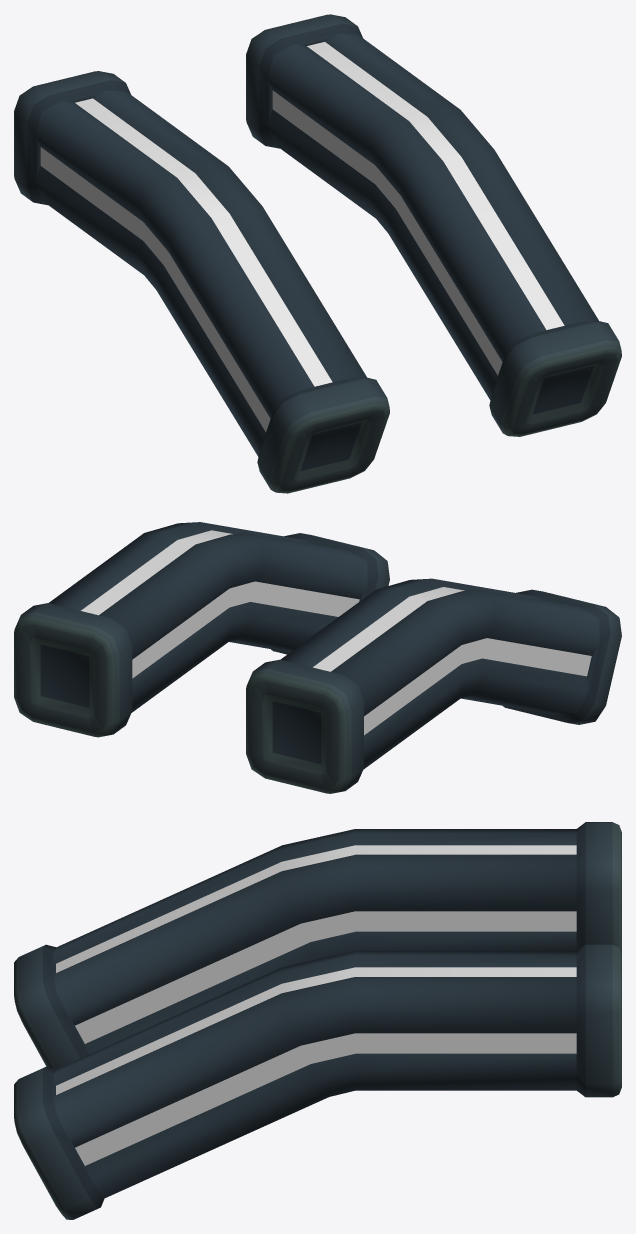
Rendered from Track_Horizontal_DiaTurn.fbx.
3 renders of one model, top to bottom at view 1: azimuth 30°, elevation 25°; view 2: azimuth 150°, elevation 25°; view 3: azimuth 270°, elevation 25°, orthographic. The views are drawn at different scales.
Visible parts, largest first — view 1: Track_Horizontal_DiaTurn_LOD0; view 2: Track_Horizontal_DiaTurn_LOD0; view 3: Track_Horizontal_DiaTurn_LOD0.
Part boxes in pixels (x1=…): Track_Horizontal_DiaTurn_LOD0: x1=14, y1=14, x2=621, y2=493; Track_Horizontal_DiaTurn_LOD0: x1=14, y1=522, x2=621, y2=793; Track_Horizontal_DiaTurn_LOD0: x1=14, y1=822, x2=621, y2=1219.
Size of what is drawn, in the model's own units: 0.7263 by 0.4594 by 1.05.
